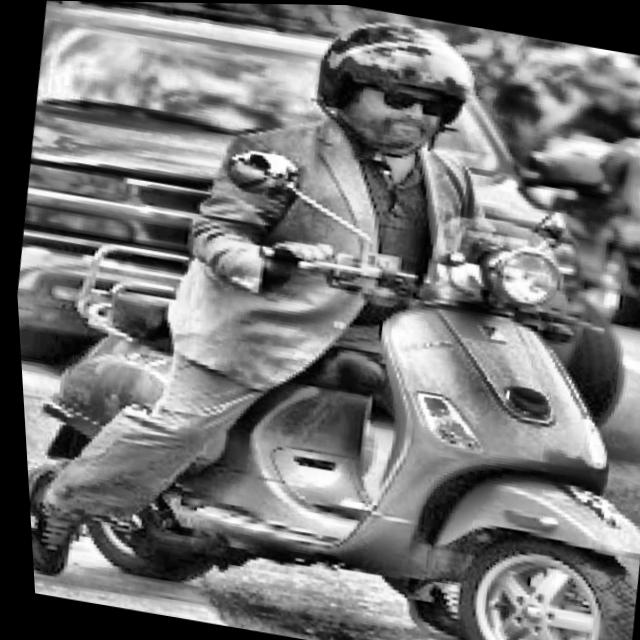motorcycle: (14, 108, 640, 640)
